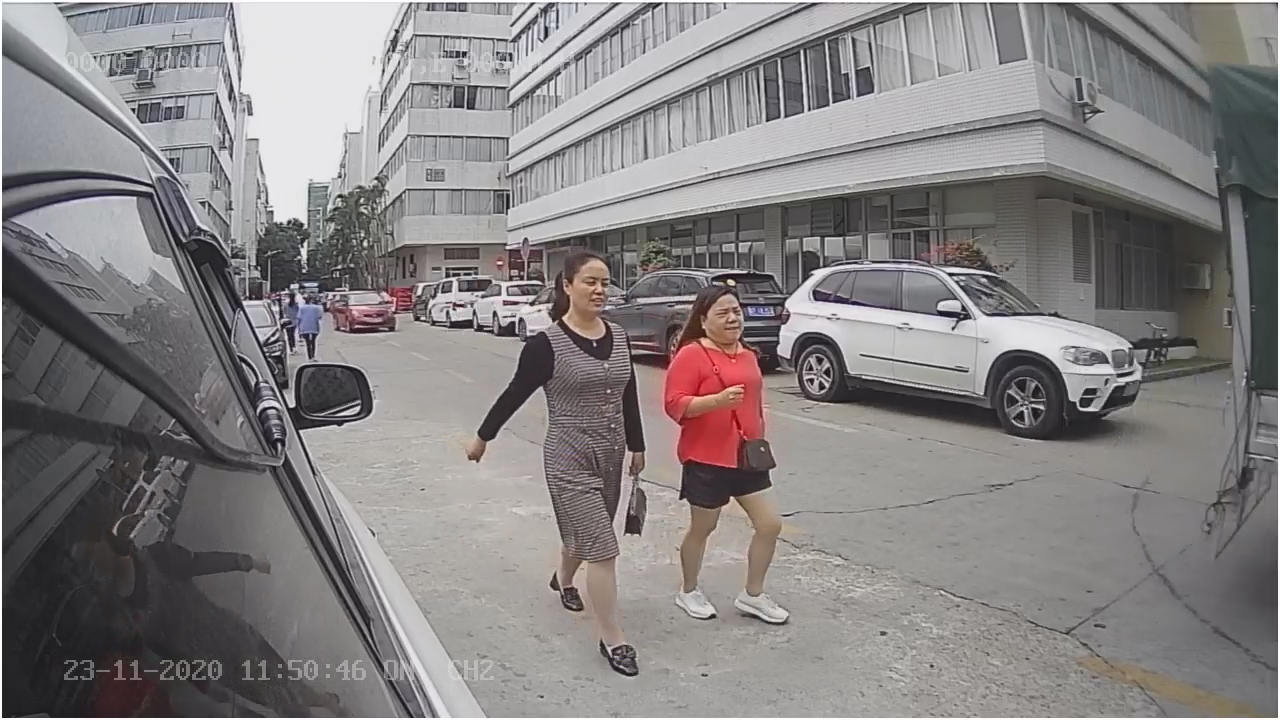person: (462, 238, 650, 675), (663, 280, 809, 623)
